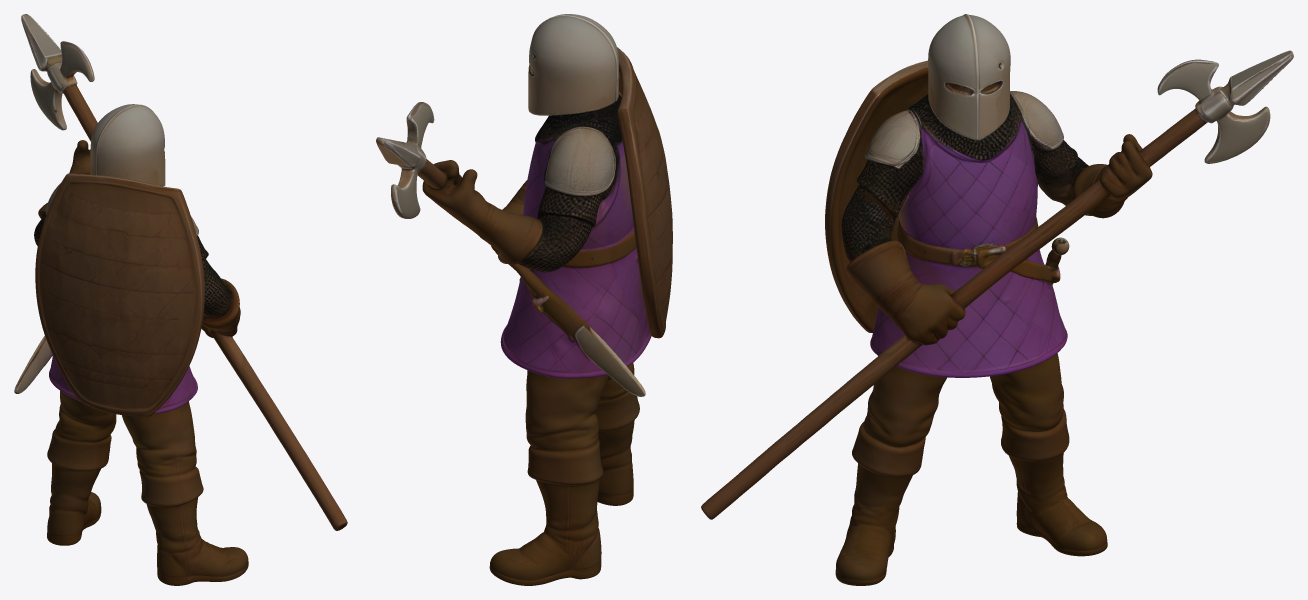
The picture shows the model from 3 angles, left to right: view 1: azimuth 30°, elevation 25°; view 2: azimuth 150°, elevation 25°; view 3: azimuth 270°, elevation 25°; orthographic projection. The views are drawn at different scales.
Visible parts, largest first — view 1: tripo_node_032e3f8d-7858-479a-8496-7bc438e63b92; view 2: tripo_node_032e3f8d-7858-479a-8496-7bc438e63b92; view 3: tripo_node_032e3f8d-7858-479a-8496-7bc438e63b92.
Boxes of the visible parts, x1,y1,x2,y2 form: tripo_node_032e3f8d-7858-479a-8496-7bc438e63b92: (14,14,347,585); tripo_node_032e3f8d-7858-479a-8496-7bc438e63b92: (376,14,672,585); tripo_node_032e3f8d-7858-479a-8496-7bc438e63b92: (701,14,1293,585).
Size of the model in its own units: 0.4586 by 0.9915 by 1.
Materials: 1 (1 with a texture image).
